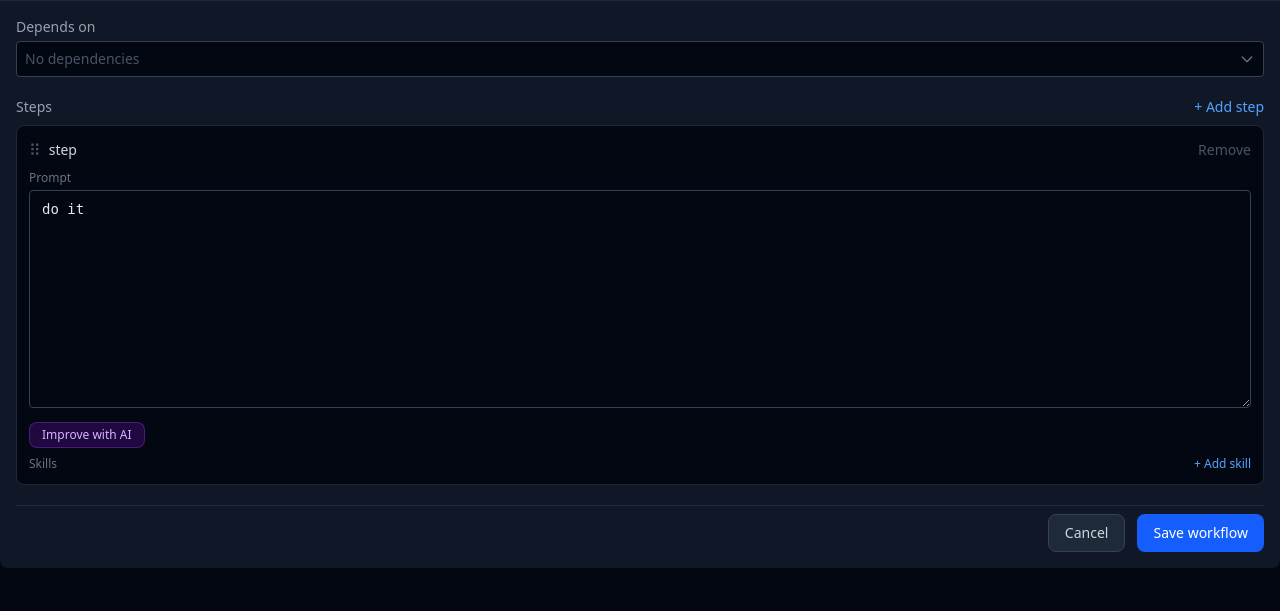
Test: FlowEditor — dependency cycle › warns and blocks save when a new dependency closes a cycle
Click the button named "add dependency" at (1247, 59), box left=1239, top=51, right=1255, bottom=67
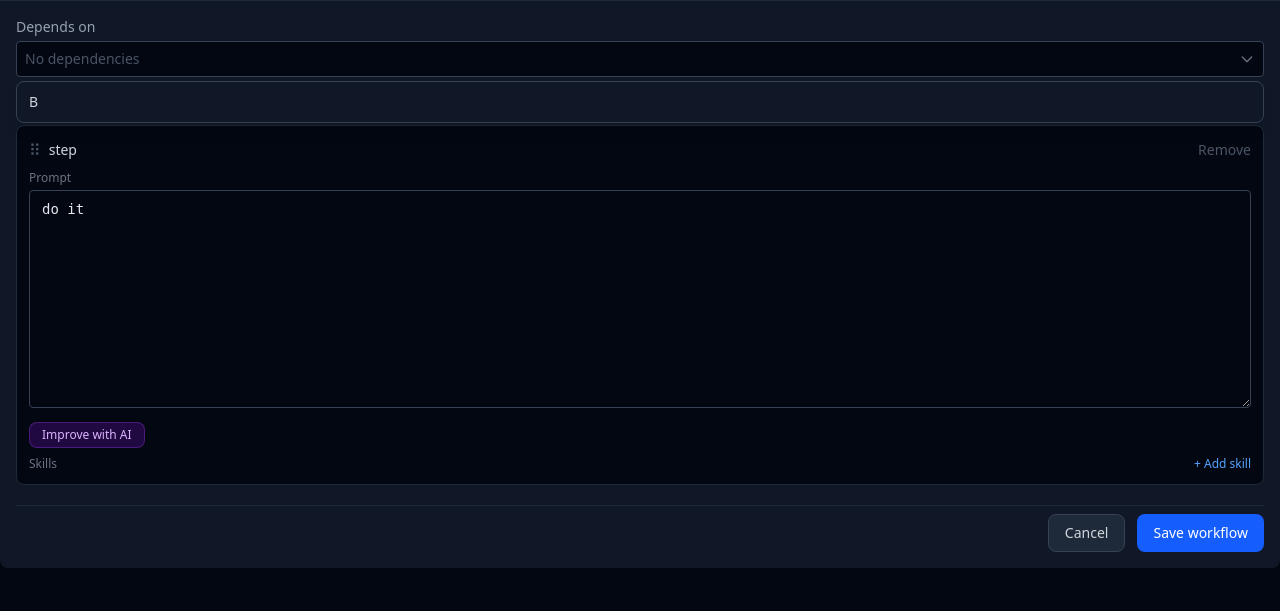
Click the button "B" at (34, 102), box left=17, top=86, right=1263, bottom=118
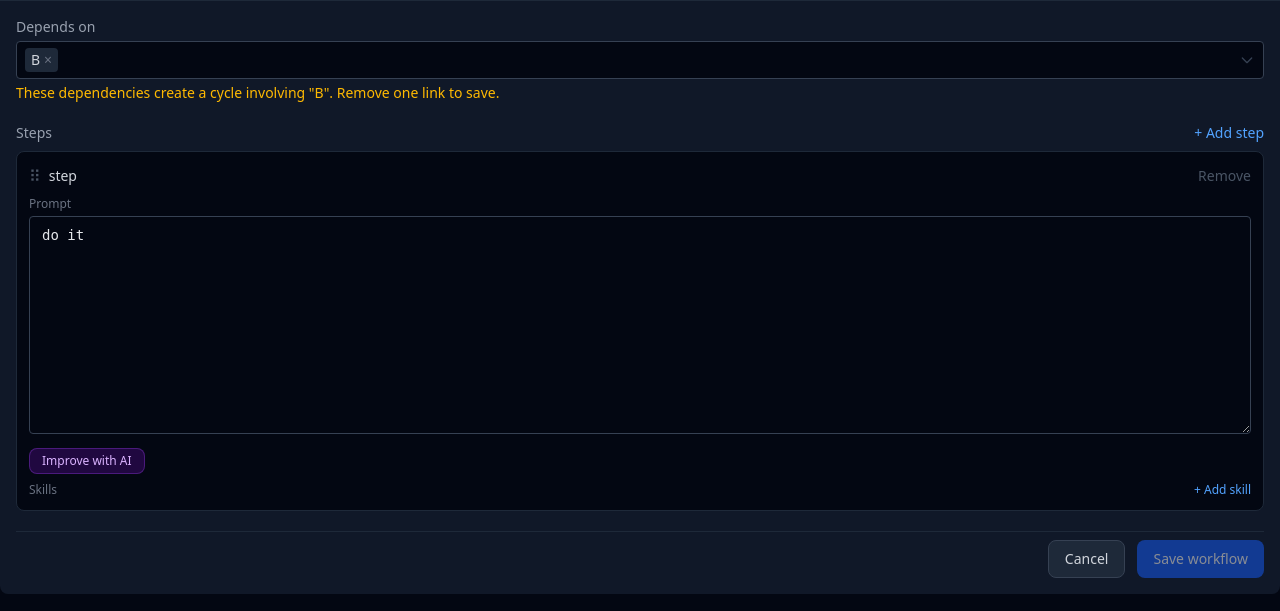
Now the text "create a cycle" is shown, box left=16, top=83, right=499, bottom=102
Now the button "Save workflow" is disabled, box left=1138, top=540, right=1264, bottom=578
